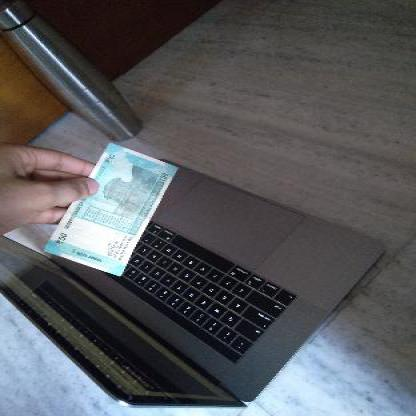New50Back: (45, 139, 176, 273)
